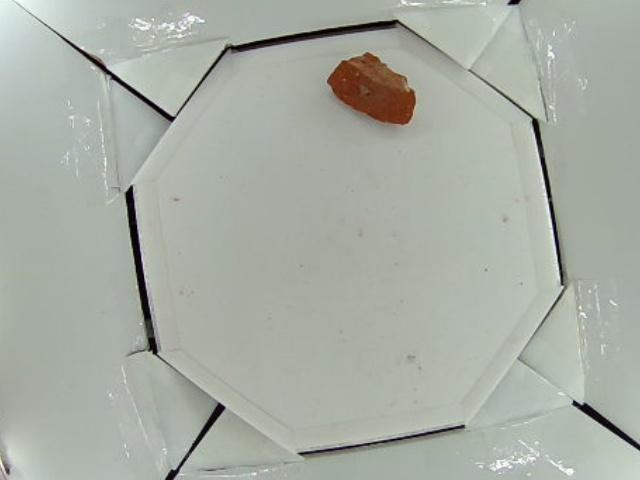Brisk: (332, 49, 416, 124)
